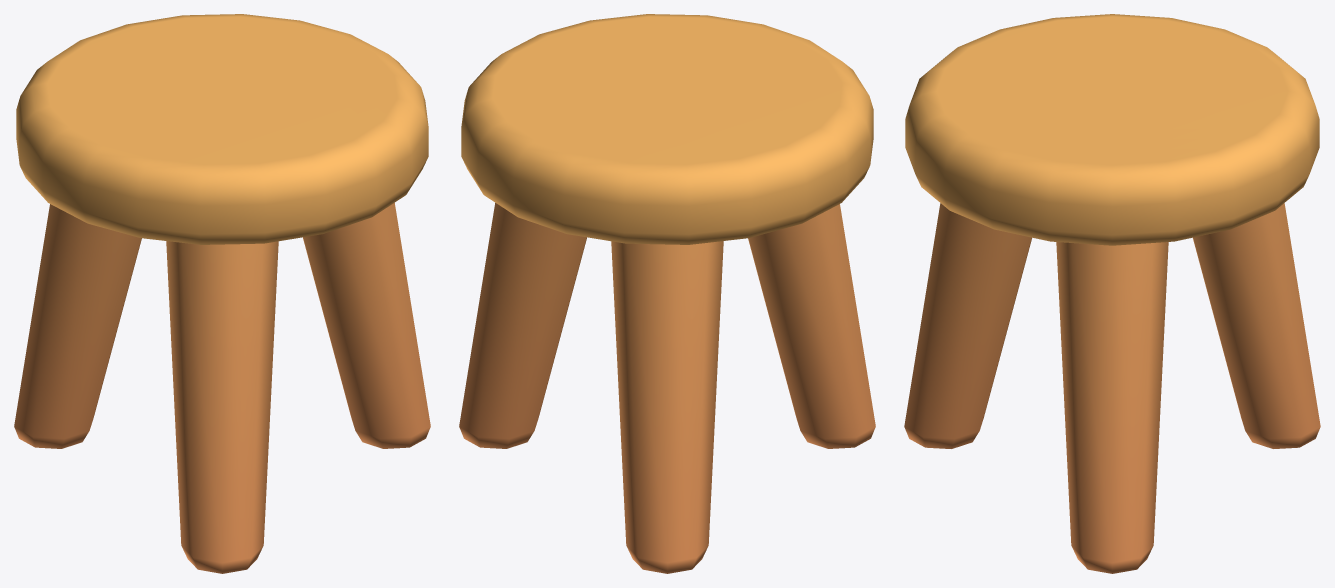
File: Chair_18.glb
3 views of the same model, side by side, from view 1: azimuth 30°, elevation 25°; view 2: azimuth 150°, elevation 25°; view 3: azimuth 270°, elevation 25° (orthographic).
Visible parts, largest first — view 1: Chair_18; view 2: Chair_18; view 3: Chair_18.
Part boxes in pixels (bbox=[...]): Chair_18: bbox=[14, 14, 430, 573]; Chair_18: bbox=[459, 14, 875, 573]; Chair_18: bbox=[904, 14, 1320, 573].
Bounding box in the file's own units: 0.4488 × 0.437 × 0.422.
Materials: 1 (1 with a texture image).
